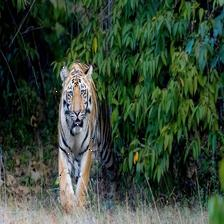tiger: (54, 64, 98, 199)
